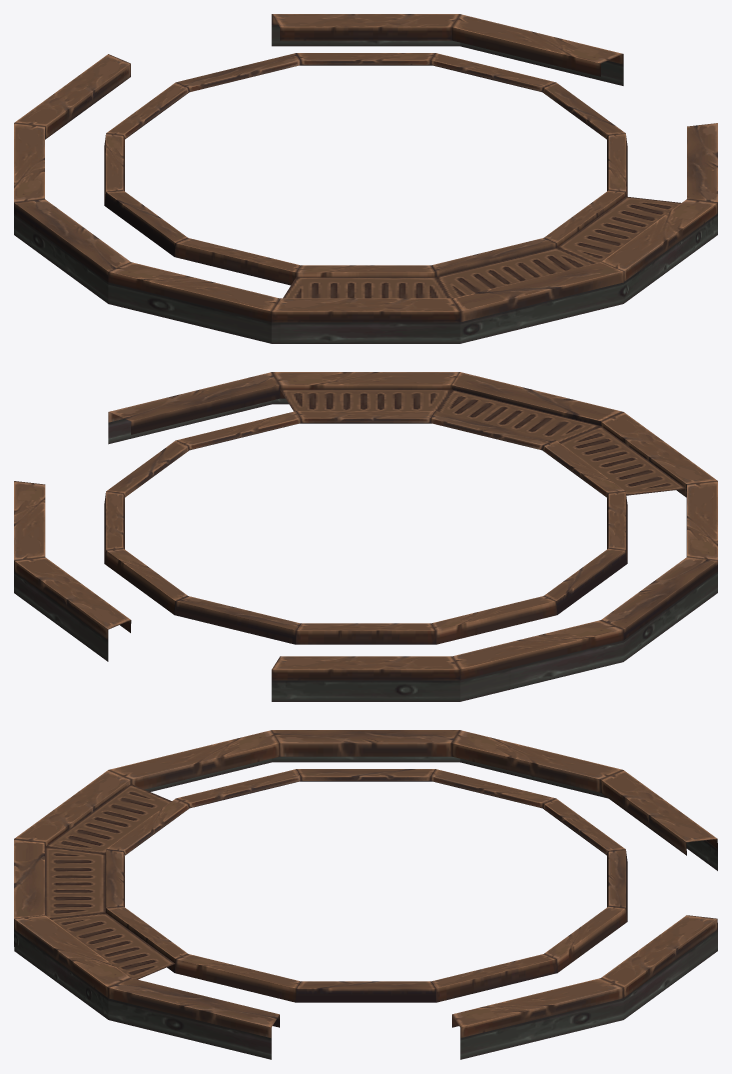
File: sn_jixie_pingtaizhonghuan_001.FBX
The picture shows the model from 3 angles, top to bottom: view 1: azimuth 30°, elevation 25°; view 2: azimuth 150°, elevation 25°; view 3: azimuth 270°, elevation 25°; orthographic projection.
Parts seen in each view (by area): view 1: sn_jixie_pingtaizhonghuan_001; view 2: sn_jixie_pingtaizhonghuan_001; view 3: sn_jixie_pingtaizhonghuan_001.
Boxes of the visible parts, x1,y1,x2,y2 form: sn_jixie_pingtaizhonghuan_001: (14,14,717,343); sn_jixie_pingtaizhonghuan_001: (14,372,717,701); sn_jixie_pingtaizhonghuan_001: (14,730,717,1059).
Size of the model in its own units: 69.66 by 69.67 by 3.53.
